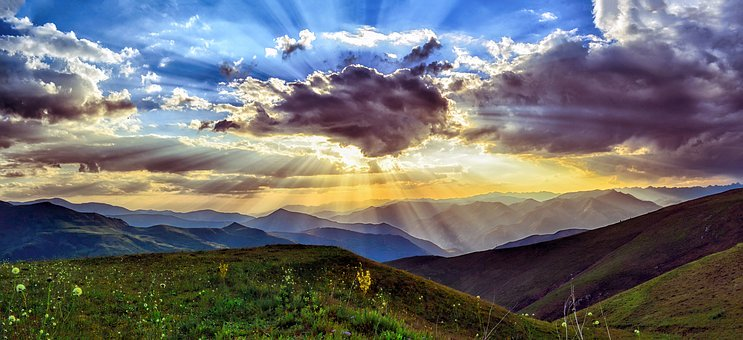mountain: (14, 190, 743, 336)
sky: (1, 2, 742, 187)
